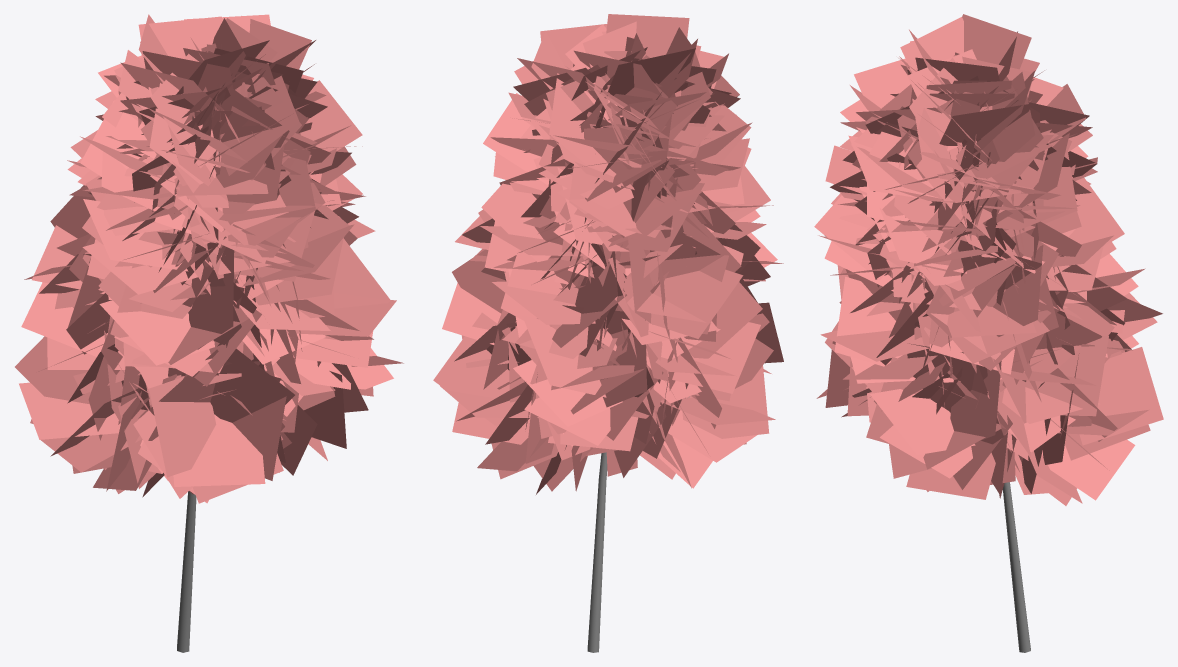
The model's file is SM_tree4.fbx.
The picture shows the model from 3 angles, left to right: view 1: azimuth 30°, elevation 25°; view 2: azimuth 150°, elevation 25°; view 3: azimuth 270°, elevation 25°; orthographic projection. The views are drawn at different scales.
Parts seen in each view (by area): view 1: SM_tree4; view 2: SM_tree4; view 3: SM_tree4.
Part boxes in pixels (<box>): SM_tree4: <box>15,14,403,652</box>; SM_tree4: <box>433,14,783,652</box>; SM_tree4: <box>814,14,1163,652</box>.
Size of the model in its own units: 462 by 853 by 448.
